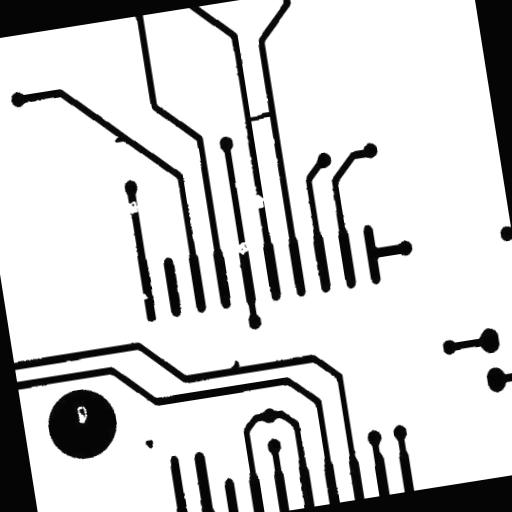copper: (136, 430, 162, 456)
mousebite: (130, 282, 156, 308)
open: (242, 184, 273, 217), (117, 191, 148, 222), (228, 232, 257, 263)
pin-hole: (67, 396, 96, 432)
short: (236, 102, 280, 130)
spur: (220, 350, 248, 382), (105, 126, 133, 151)
